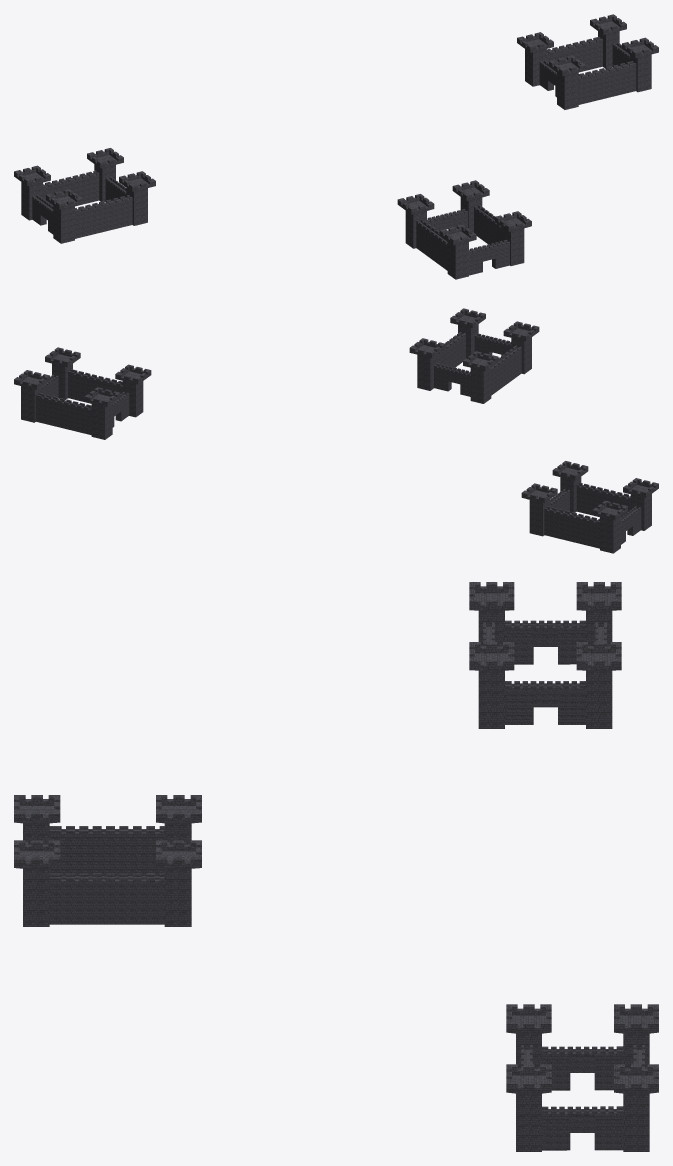
File: muralhas_part_IIATT.fbx
The picture shows the model from 3 angles, top to bottom: view 1: azimuth 30°, elevation 25°; view 2: azimuth 150°, elevation 25°; view 3: azimuth 270°, elevation 25°; orthographic projection. The views are drawn at different scales.
Visible parts, largest first — view 1: Cube.038; view 2: Cube.038; view 3: Cube.038.
Boxes of the visible parts, x1,y1,x2,y2 form: Cube.038: [14, 14, 658, 279]; Cube.038: [14, 308, 658, 553]; Cube.038: [14, 582, 658, 1151].
Size of the model in its own units: 34585 by 2303 by 18786.
30 materials, 30 textured.
